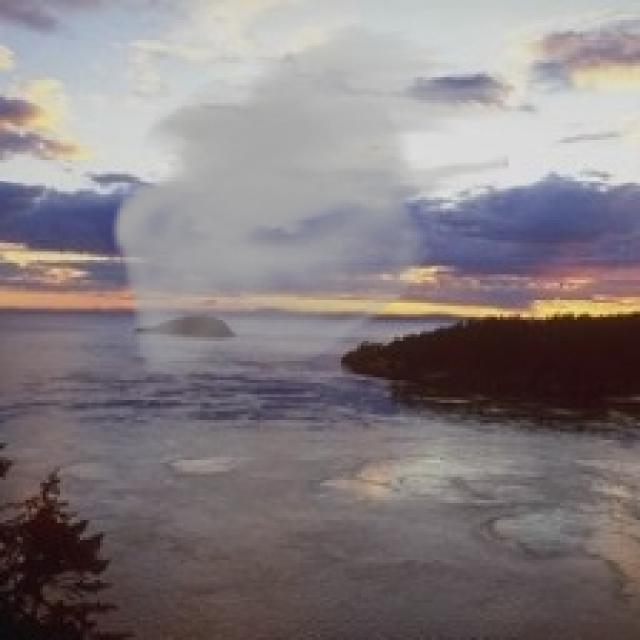smoke: (111, 20, 508, 377)
